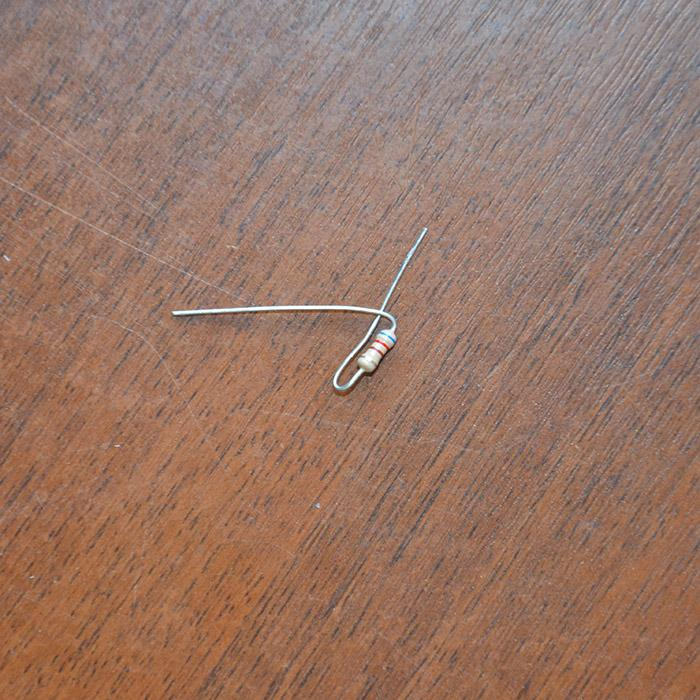resistor: (357, 327, 397, 372)
